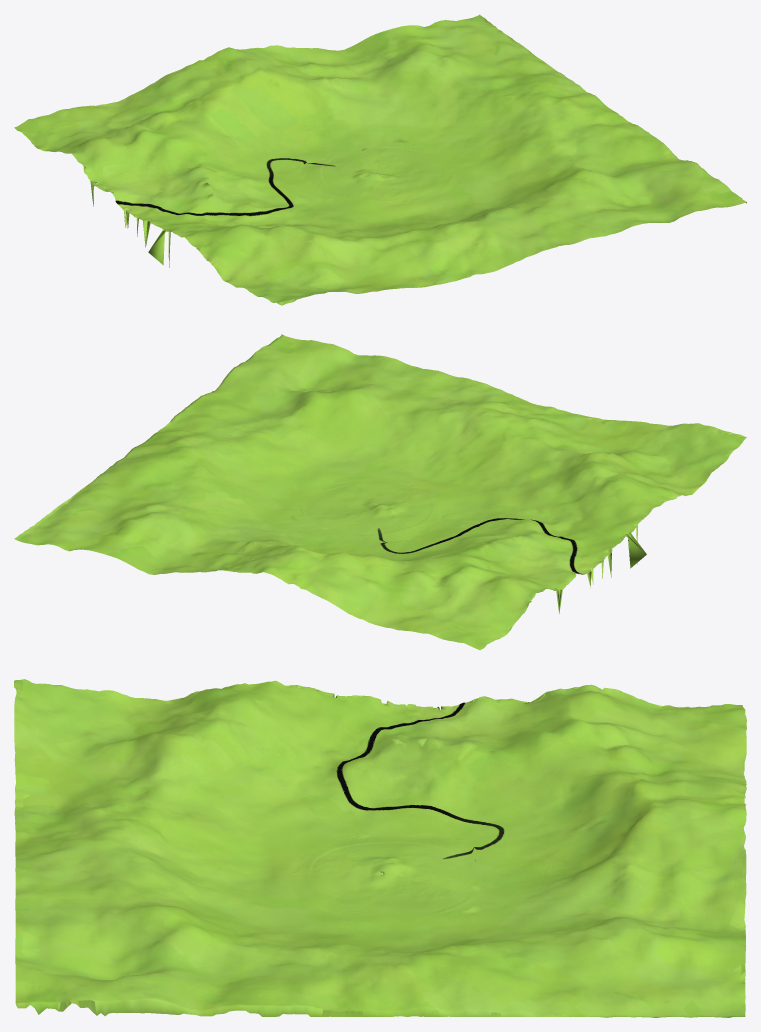
File: SilkFountain_Ground_V4_Dream.glb
3 renders of one model, top to bottom at view 1: azimuth 30°, elevation 25°; view 2: azimuth 150°, elevation 25°; view 3: azimuth 270°, elevation 25°, orthographic. The views are drawn at different scales.
Parts seen in each view (by area): view 1: Plane.001; view 2: Plane.001; view 3: Plane.001.
Boxes of the visible parts, box(x1,y1,x2,y2) form: Plane.001: box(14, 14, 746, 305); Plane.001: box(14, 334, 746, 650); Plane.001: box(14, 679, 746, 1017).
Bounding box in the file's own units: 2072 × 248 × 1998.
Materials: 1 (1 with a texture image).
